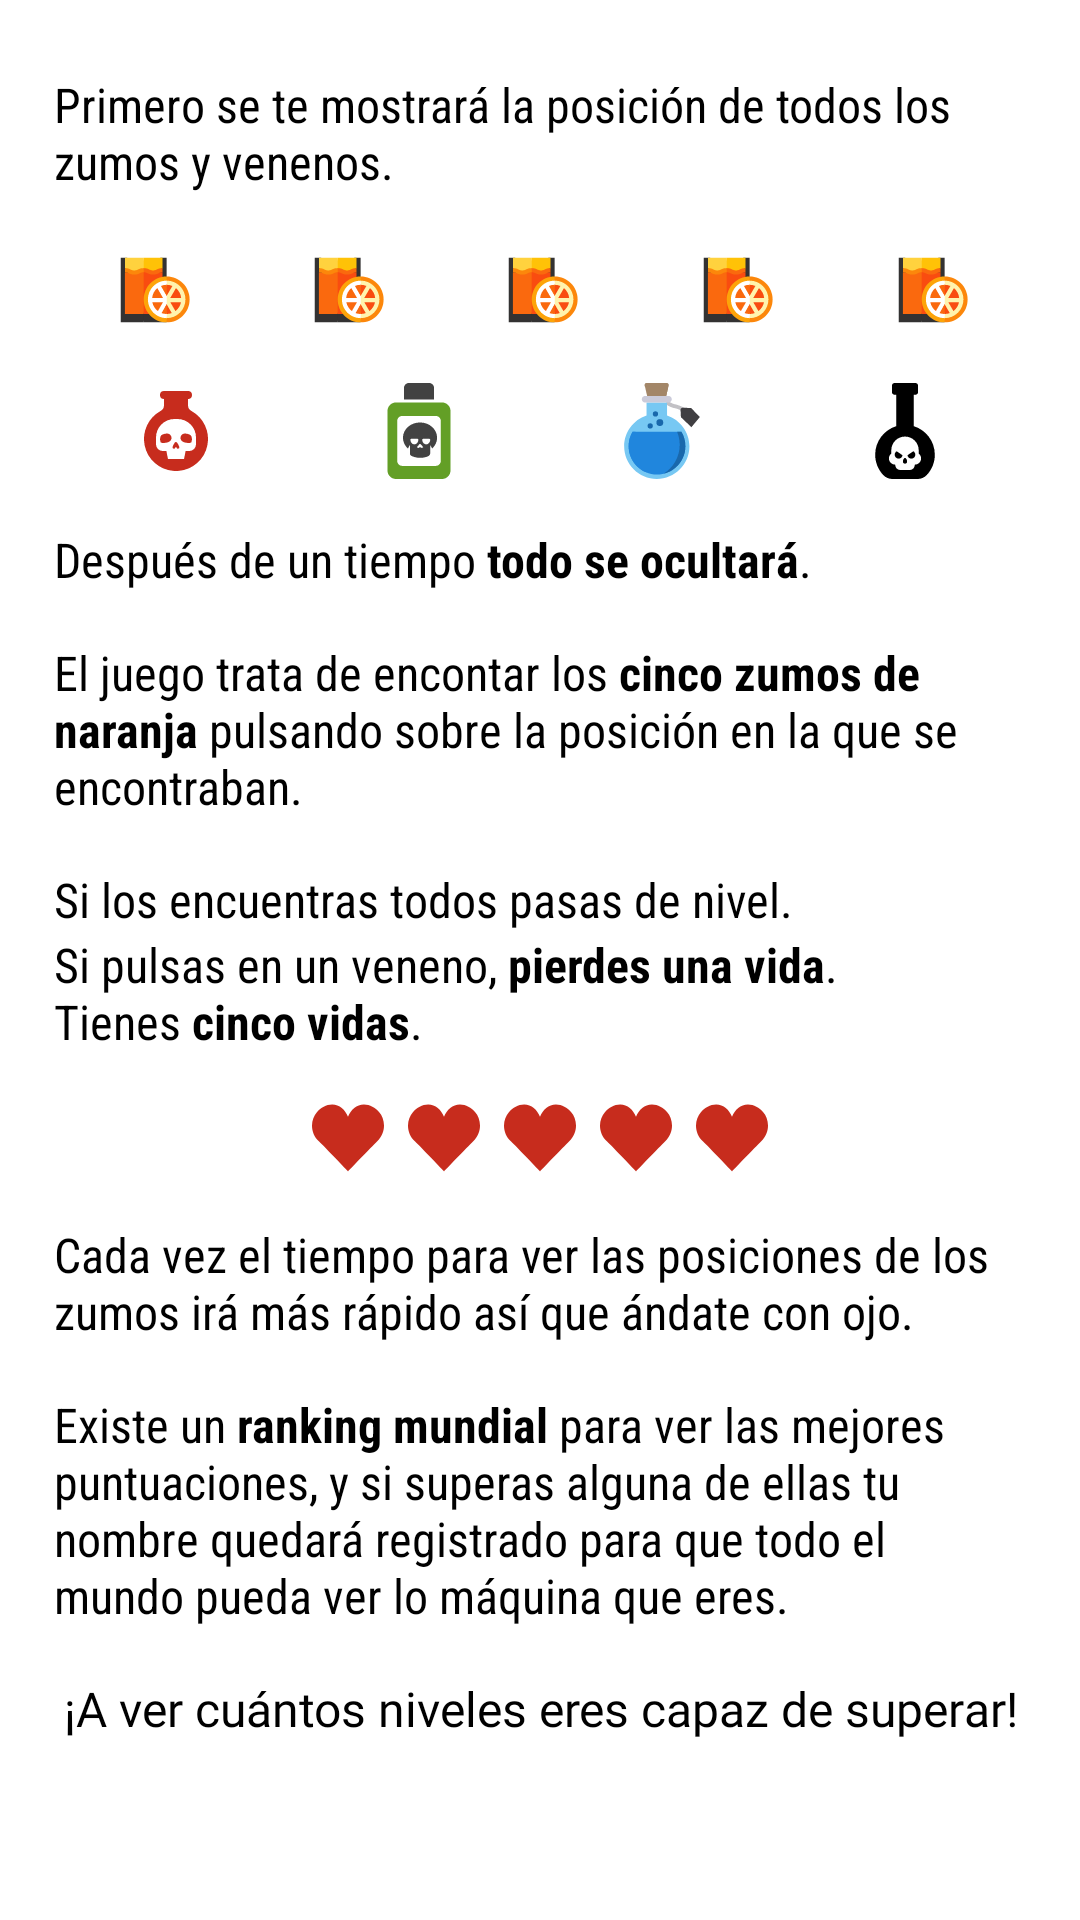

Icons on this 1080 × 1920 Android screen, each with its box as Rect(x1, y1, x2, y2):
heart: Rect(312, 1104, 384, 1171), Rect(408, 1104, 480, 1171), Rect(504, 1104, 576, 1171), Rect(600, 1104, 672, 1171), Rect(696, 1104, 768, 1171)
juice: Rect(120, 257, 190, 323), Rect(314, 257, 384, 323), Rect(508, 257, 578, 323), Rect(703, 257, 773, 323), Rect(898, 257, 968, 323)
poison four: Rect(875, 383, 935, 479)
poison one: Rect(144, 391, 208, 471)
poison three: Rect(624, 383, 700, 479)
poison two: Rect(387, 383, 451, 479)
